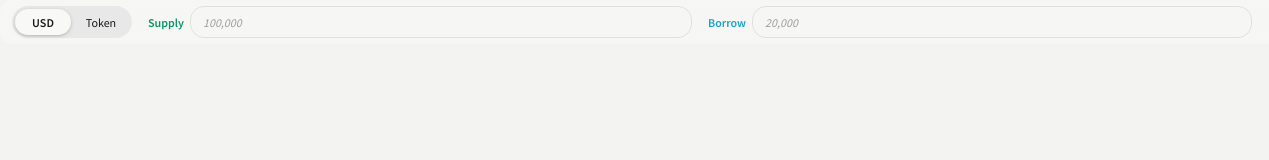
Test: ScenarioControls › useDebouncedInput migration (AAV-745) › should show formatted value with commas during editing
Type "10000" into the field named "Supply amount".
click(441, 22); type("10000")  # box [190,6,692,38]
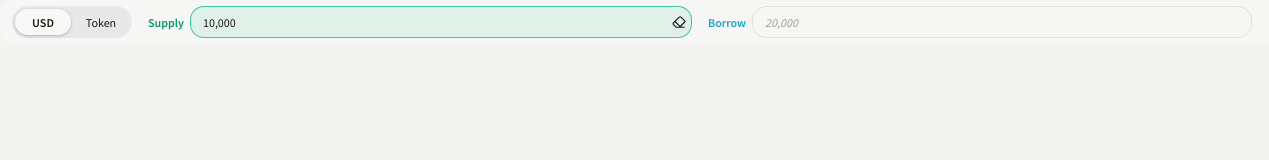
Now the field named "Supply amount" holds "10,000", box [190,6,692,38]
